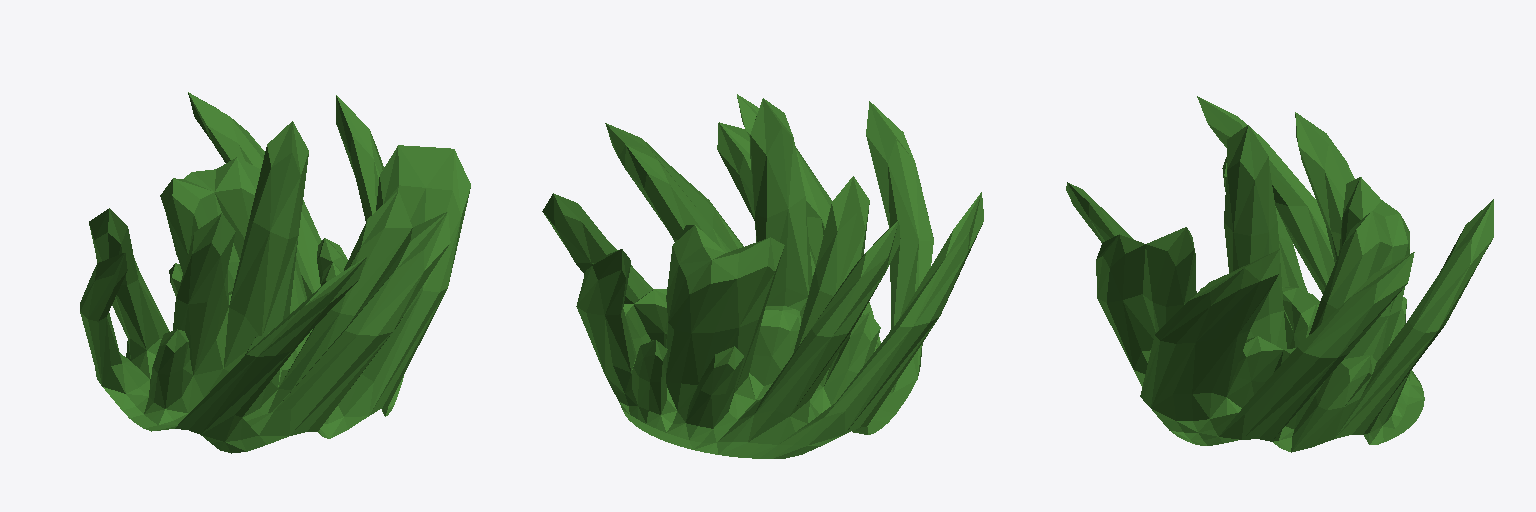
Rendered from spikes.obj.
The picture shows the model from 3 angles: view 1: azimuth 30°, elevation 25°; view 2: azimuth 150°, elevation 25°; view 3: azimuth 270°, elevation 25°; orthographic projection.
Parts seen in each view (by area): view 1: Plane_Plane.001; view 2: Plane_Plane.001; view 3: Plane_Plane.001.
Part boxes in pixels (x1,y1,x2,y2): Plane_Plane.001: (80,92,470,453); Plane_Plane.001: (542,94,983,458); Plane_Plane.001: (1066,96,1493,452).
Size of the model in its own units: 2.78 by 2.08 by 2.85.